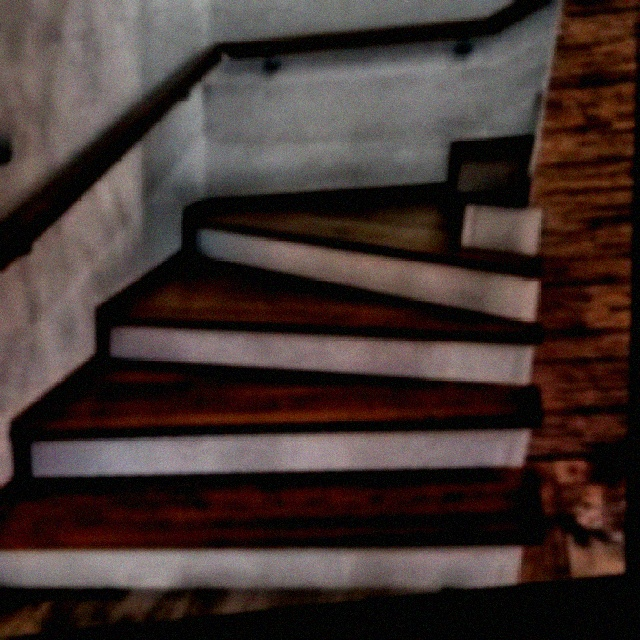stair: (0, 238, 552, 621)
